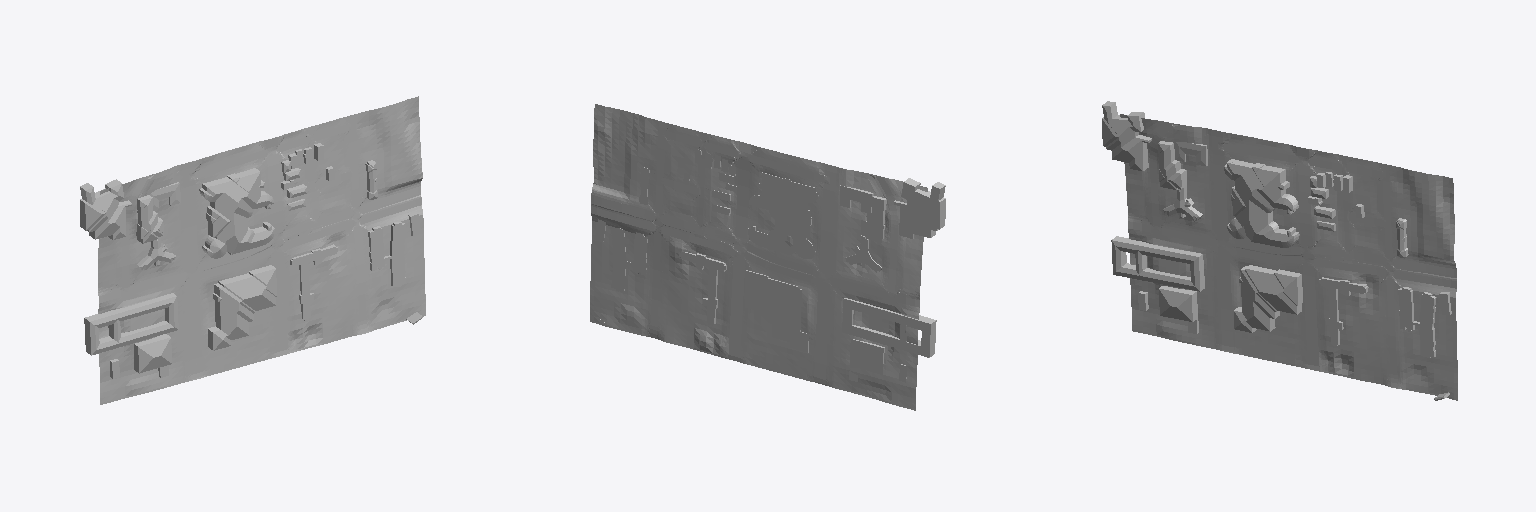
File: park_visual_irr.obj
The picture shows the model from 3 angles: view 1: azimuth 30°, elevation 25°; view 2: azimuth 150°, elevation 25°; view 3: azimuth 330°, elevation 25°; orthographic projection.
Visible parts, largest first — view 1: shape_node.031_meshId31_name, shape_node.008_meshId8_name, shape_node.029_meshId29_name, shape_node.030_meshId30_name, shape_node.012_meshId12_name, shape_node.015_meshId15_name, shape_node.024_meshId24_name, shape_node.028_meshId28_name, shape_node.014_meshId14_name, shape_node.001_meshId1_name; view 2: shape_node.031_meshId31_name, shape_node_meshId0_name, shape_node.029_meshId29_name, shape_node.030_meshId30_name, shape_node.012_meshId12_name, shape_node.024_meshId24_name, shape_node.014_meshId14_name; view 3: shape_node.031_meshId31_name, shape_node.008_meshId8_name, shape_node.029_meshId29_name, shape_node.030_meshId30_name, shape_node.012_meshId12_name, shape_node.015_meshId15_name, shape_node.024_meshId24_name, shape_node.028_meshId28_name, shape_node.001_meshId1_name, shape_node.014_meshId14_name, shape_node.023_meshId23_name.
Part boxes in pixels (x1,y1,x2,y2): shape_node.031_meshId31_name: (98, 109, 383, 404); shape_node.008_meshId8_name: (85, 162, 405, 373); shape_node.029_meshId29_name: (99, 115, 421, 379); shape_node.030_meshId30_name: (378, 96, 425, 326); shape_node.012_meshId12_name: (99, 114, 421, 380); shape_node.015_meshId15_name: (150, 170, 337, 320); shape_node.024_meshId24_name: (81, 180, 419, 353); shape_node.028_meshId28_name: (135, 169, 273, 372); shape_node.014_meshId14_name: (80, 179, 421, 354); shape_node.001_meshId1_name: (112, 146, 420, 378); shape_node.031_meshId31_name: (632, 114, 927, 410); shape_node_meshId0_name: (596, 149, 939, 382); shape_node.029_meshId29_name: (591, 121, 919, 384); shape_node.030_meshId30_name: (590, 104, 637, 332); shape_node.012_meshId12_name: (591, 121, 919, 385); shape_node.024_meshId24_name: (847, 179, 944, 356); shape_node.014_meshId14_name: (600, 178, 945, 357); shape_node.031_meshId31_name: (1120, 114, 1415, 391); shape_node.008_meshId8_name: (1102, 105, 1434, 357); shape_node.029_meshId29_name: (1128, 122, 1456, 388); shape_node.030_meshId30_name: (1410, 170, 1457, 400); shape_node.012_meshId12_name: (1128, 122, 1456, 388); shape_node.015_meshId15_name: (1174, 142, 1365, 345); shape_node.024_meshId24_name: (1103, 102, 1448, 397); shape_node.028_meshId28_name: (1159, 141, 1297, 321); shape_node.001_meshId1_name: (1138, 173, 1449, 333); shape_node.014_meshId14_name: (1103, 101, 1449, 398); shape_node.023_meshId23_name: (1159, 142, 1299, 319).
Bounding box in the file's own units: 543 × 342 × 31.51.